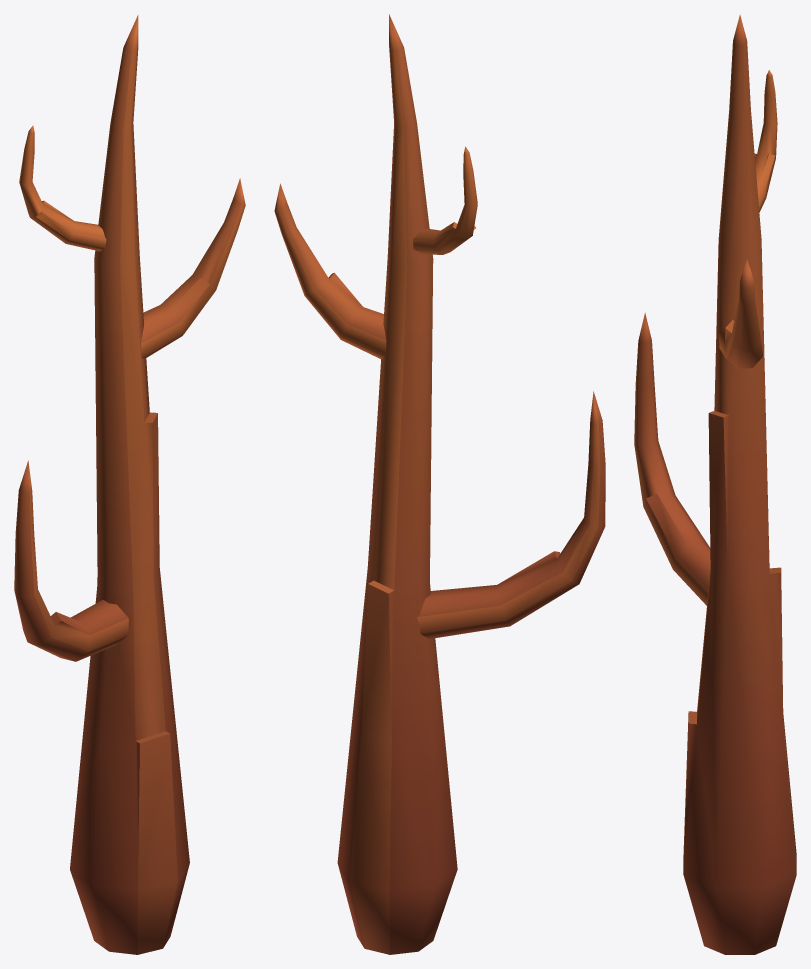
File: Tree_Bare_2_A_Color1.glb
3 renders of one model, left to right at view 1: azimuth 30°, elevation 25°; view 2: azimuth 150°, elevation 25°; view 3: azimuth 270°, elevation 25°, orthographic.
Visible parts, largest first — view 1: Tree_Bare_2_A_Color1; view 2: Tree_Bare_2_A_Color1; view 3: Tree_Bare_2_A_Color1.
Part boxes in pixels (x1=…): Tree_Bare_2_A_Color1: x1=14, y1=15, x2=245, y2=954; Tree_Bare_2_A_Color1: x1=274, y1=14, x2=605, y2=954; Tree_Bare_2_A_Color1: x1=634, y1=14, x2=796, y2=954.
Size of the model in its own units: 1.2 by 3.84 by 0.6.
1 material, 1 textured.
